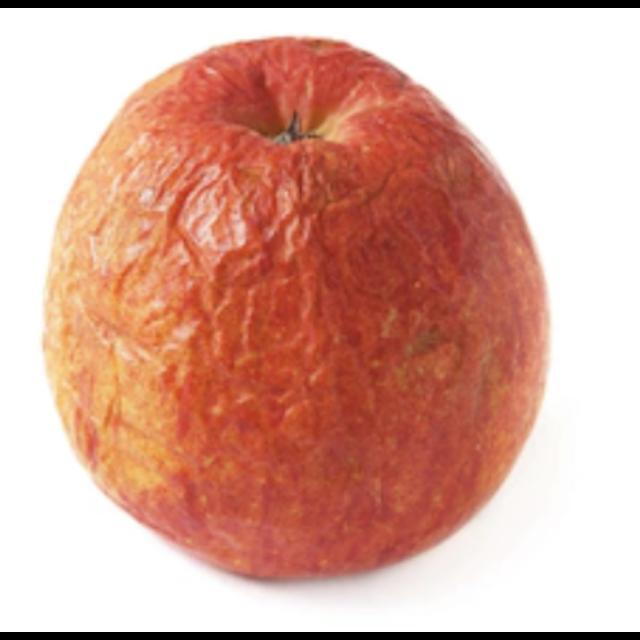Apel Tidak Segar: (49, 34, 550, 580)
